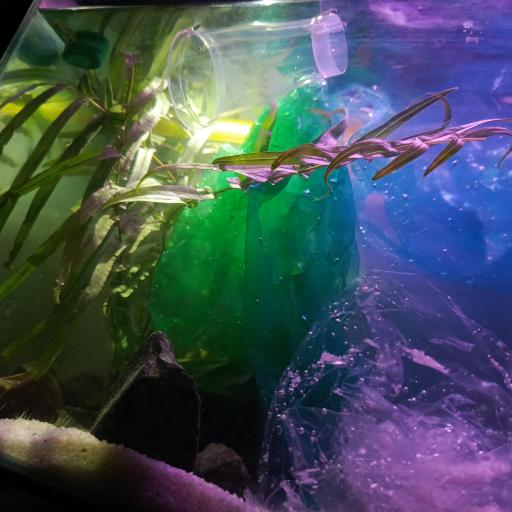bottle_cap: (64, 40, 104, 70)
plastic_bag: (152, 82, 364, 419), (255, 268, 512, 512), (321, 84, 512, 292)
plastic_cup: (166, 11, 346, 131)
plastic_straw: (160, 117, 249, 142)
